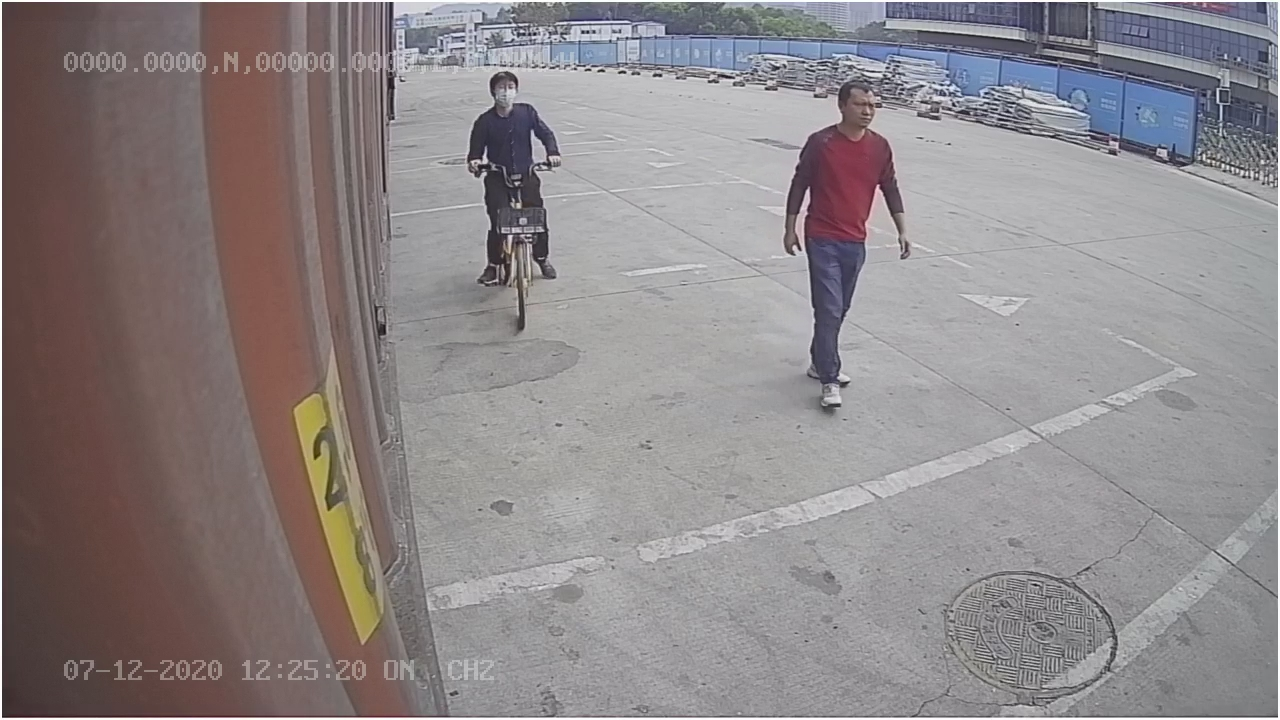person: (781, 75, 918, 414)
